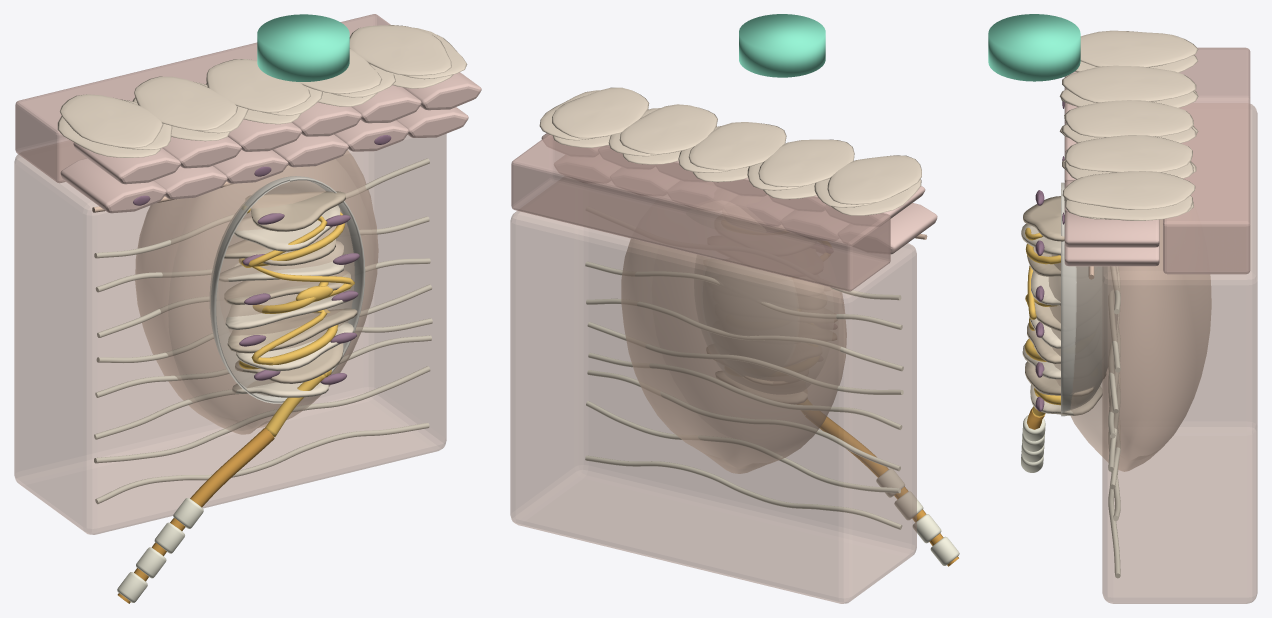
File: meissner-DOjwqqcM.glb
3 views of the same model, side by side, from view 1: azimuth 30°, elevation 25°; view 2: azimuth 150°, elevation 25°; view 3: azimuth 270°, elevation 25° (orthographic). The views are drawn at different scales.
Visible parts, largest first — view 1: meissner__dermis__01, meissner__dermal-papilla__01, meissner__epidermis__18, meissner__epidermis__02, meissner__dermis__02, meissner__lamellae__03, meissner__lamellae__01, meissner__epidermis__01, meissner__capsule__01, meissner__stimulus-probe__01, meissner__sensory-ending__01, meissner__myelin__01 (+2 smaller); view 2: meissner__dermis__01, meissner__dermal-papilla__01, meissner__epidermis__01, meissner__epidermis__18, meissner__dermis__02, meissner__capsule__01, meissner__epidermis__02, meissner__stimulus-probe__01, meissner__myelin__01, meissner__axon__01, meissner__lamellae__01; view 3: meissner__dermis__01, meissner__dermal-papilla__01, meissner__epidermis__18, meissner__epidermis__01, meissner__capsule__01, meissner__stimulus-probe__01, meissner__epidermis__02, meissner__lamellae__03, meissner__dermis__02, meissner__lamellae__01, meissner__sensory-ending__01, meissner__myelin__01 (+1 smaller).
Boxes of the visible parts, x1,y1,x2,y2 form: meissner__dermis__01: [14, 134, 446, 534]; meissner__dermal-papilla__01: [135, 150, 378, 434]; meissner__epidermis__18: [57, 25, 467, 157]; meissner__epidermis__02: [60, 72, 481, 213]; meissner__dermis__02: [94, 158, 432, 504]; meissner__lamellae__03: [224, 191, 357, 383]; meissner__lamellae__01: [218, 205, 354, 397]; meissner__epidermis__01: [15, 14, 390, 183]; meissner__capsule__01: [209, 176, 365, 403]; meissner__stimulus-probe__01: [257, 14, 349, 81]; meissner__sensory-ending__01: [238, 206, 354, 437]; meissner__myelin__01: [117, 498, 203, 602]; meissner__dermis__01: [510, 184, 916, 603]; meissner__dermal-papilla__01: [621, 200, 846, 473]; meissner__epidermis__01: [511, 134, 890, 291]; meissner__epidermis__18: [539, 87, 921, 215]; meissner__dermis__02: [585, 261, 903, 529]; meissner__capsule__01: [694, 255, 833, 393]; meissner__epidermis__02: [541, 133, 937, 254]; meissner__stimulus-probe__01: [739, 14, 825, 77]; meissner__myelin__01: [876, 468, 959, 565]; meissner__axon__01: [819, 416, 958, 566]; meissner__lamellae__01: [715, 371, 807, 404]; meissner__dermis__01: [1102, 104, 1257, 603]; meissner__dermal-papilla__01: [1048, 219, 1211, 471]; meissner__epidermis__18: [1059, 30, 1198, 220]; meissner__epidermis__01: [1163, 47, 1250, 274]; meissner__capsule__01: [1061, 182, 1117, 416]; meissner__stimulus-probe__01: [988, 14, 1080, 81]; meissner__epidermis__02: [1064, 71, 1159, 266]; meissner__lamellae__03: [1023, 196, 1105, 396]; meissner__dermis__02: [1108, 266, 1120, 578]; meissner__lamellae__01: [1021, 223, 1102, 415]; meissner__sensory-ending__01: [1025, 227, 1060, 416]; meissner__myelin__01: [1021, 415, 1045, 472].
Size of the model in its own units: 1.81 by 2.38 by 1.11.
